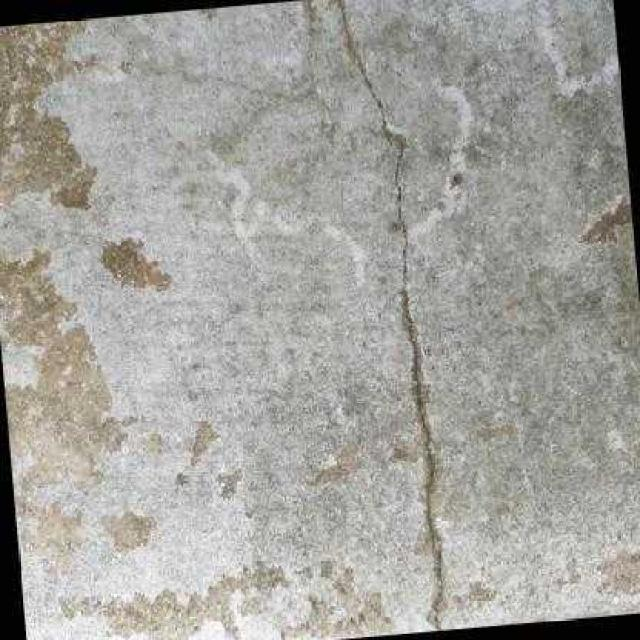D00: (332, 0, 446, 624)
